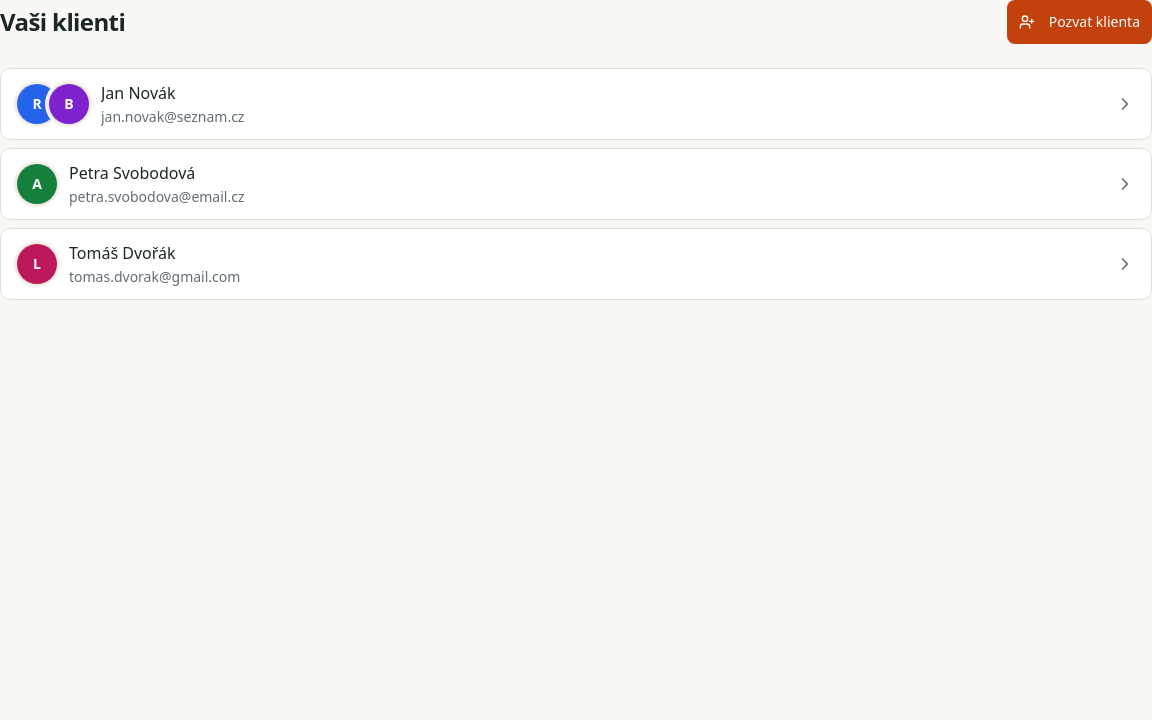
Test: ClientList › generates invitation code without email when 'vygenerovat pouze kód' is clicked
Click the button "Pozvat klienta".
click(1079, 22)  # box [1007,0,1151,44]
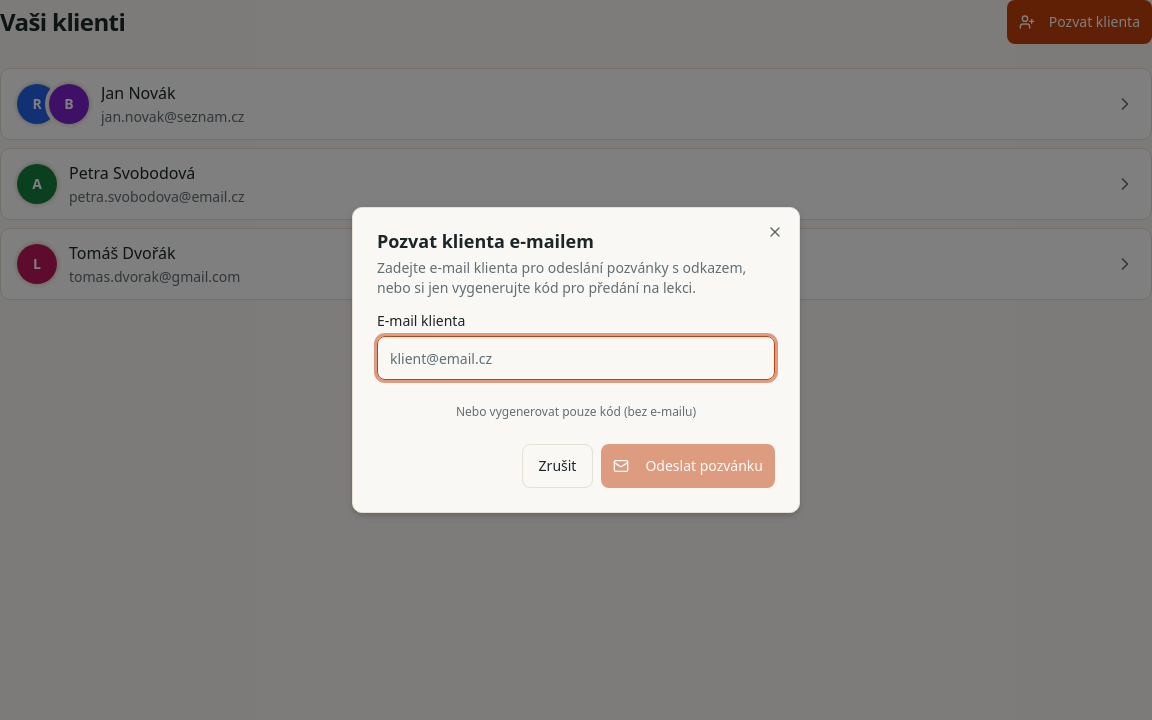
Click the button "Nebo vygenerovat pouze kód (bez e-mailu)".
click(576, 412)  # box [444,396,708,428]
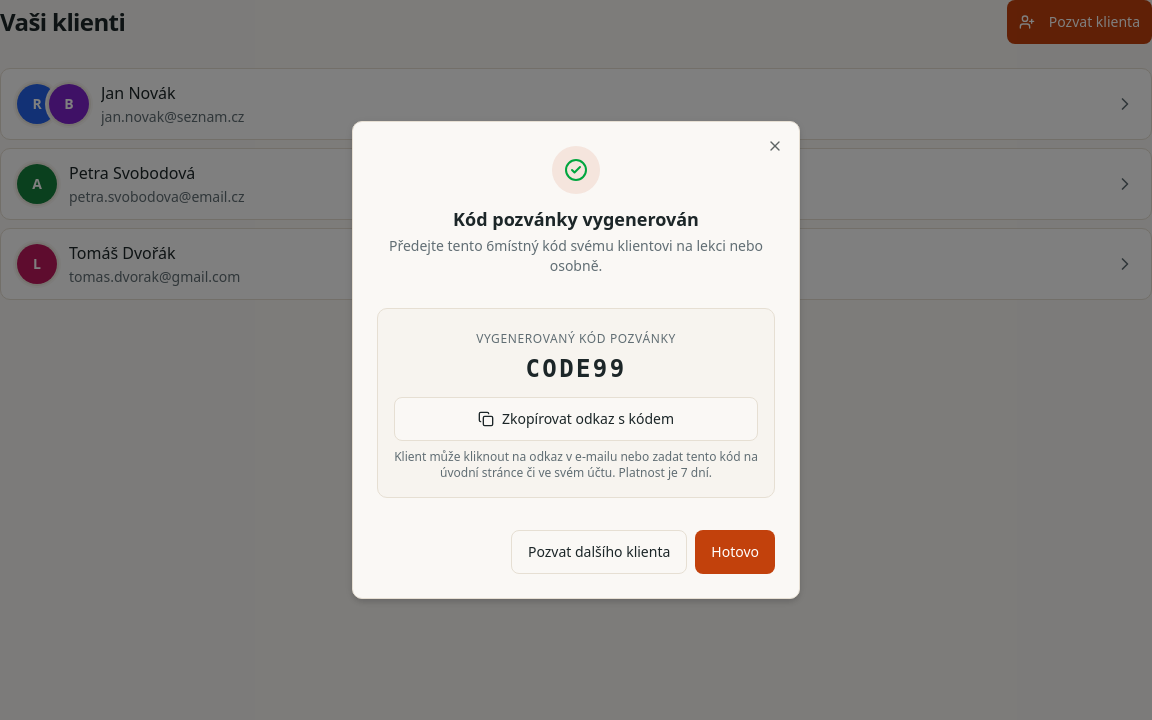
Expected: the heading "Kód pozvánky vygenerován" is shown, [453,207,699,231]
Expected: the text "CODE99" is shown, [525,355,626,383]
